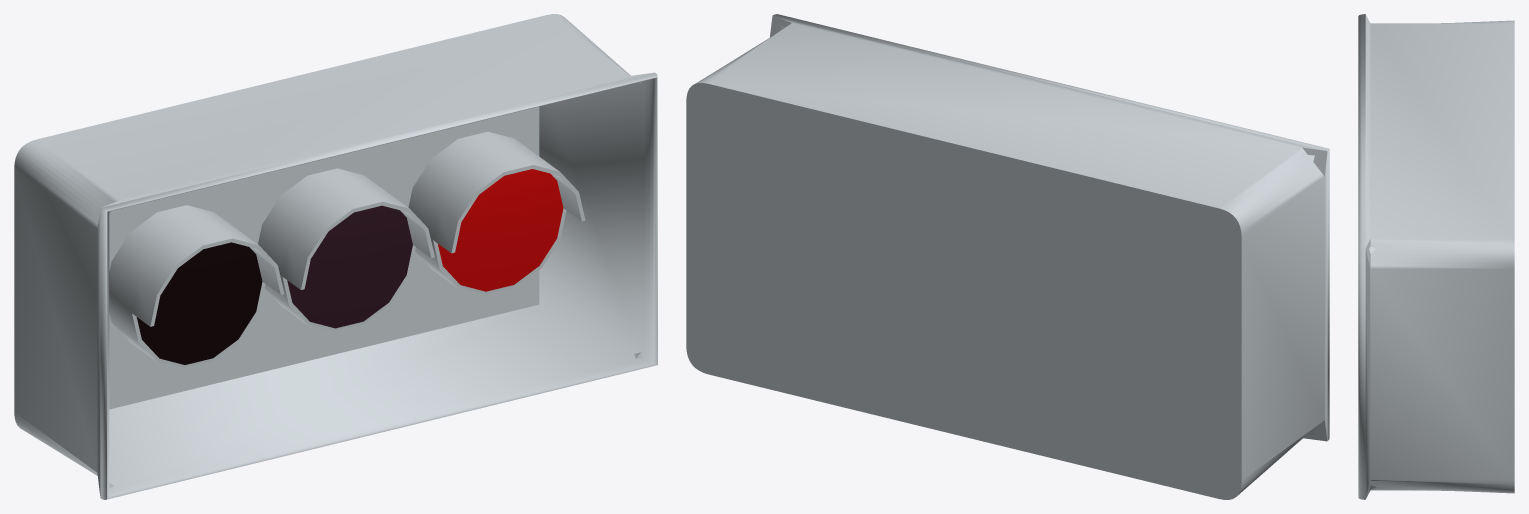
File: SignalLights_M_V1_Raghu.FBX
3 views of the same model, side by side, from view 1: azimuth 30°, elevation 25°; view 2: azimuth 150°, elevation 25°; view 3: azimuth 270°, elevation 25° (orthographic). The views are drawn at different scales.
Visible parts, largest first — view 1: SignalLights; view 2: SignalLights; view 3: SignalLights.
Boxes of the visible parts, x1,y1,x2,y2 form: SignalLights: (14, 14, 657, 499); SignalLights: (686, 14, 1329, 499); SignalLights: (1358, 14, 1514, 499).
Size of what is drawn, in the model's own units: 100 by 50 by 28.1.
